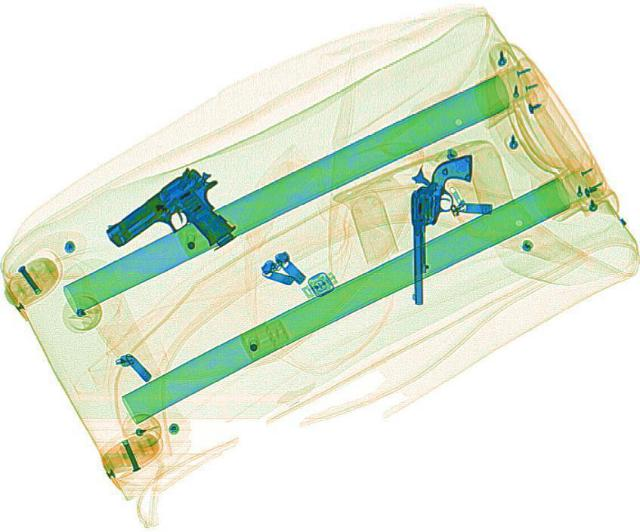Gun: (95, 160, 262, 286), (408, 154, 472, 304)
